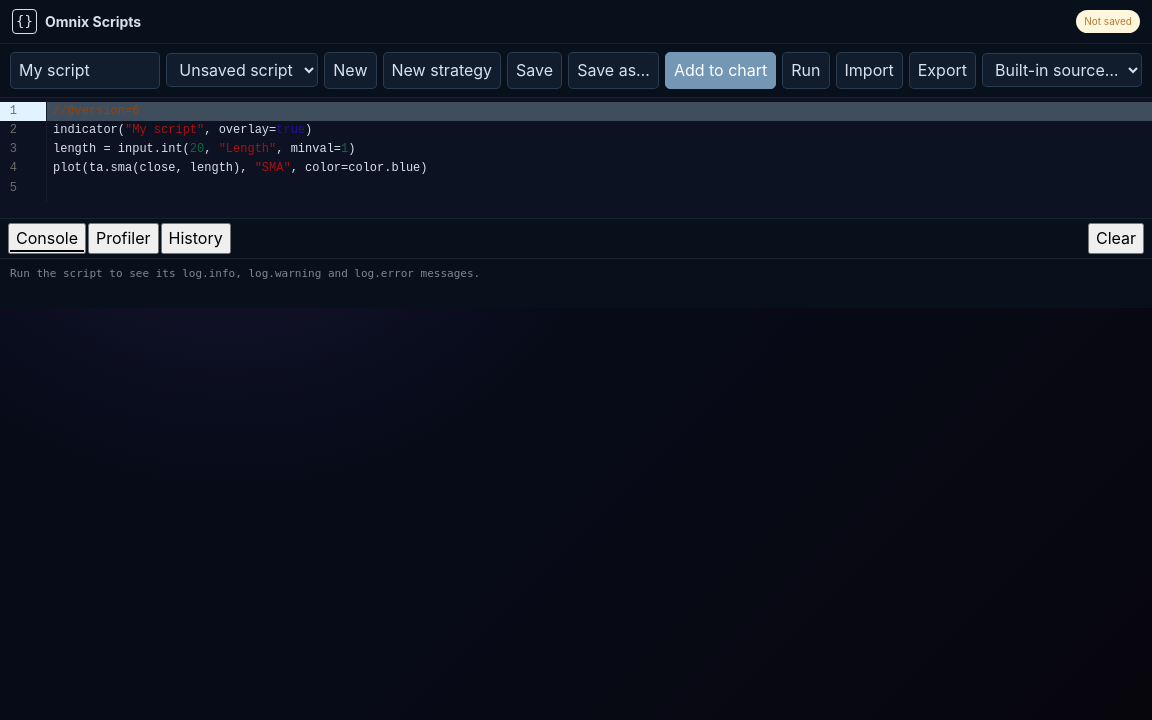
Test: TradingPinePanel (Omnix Scripts editor) › saves a new script and adds it to the chart as a script indicator
The width and height of the screenshot is (1152, 720).
Click the button "Add to chart" at coordinates (721, 70), box x1=665 y1=52 x2=776 y2=89
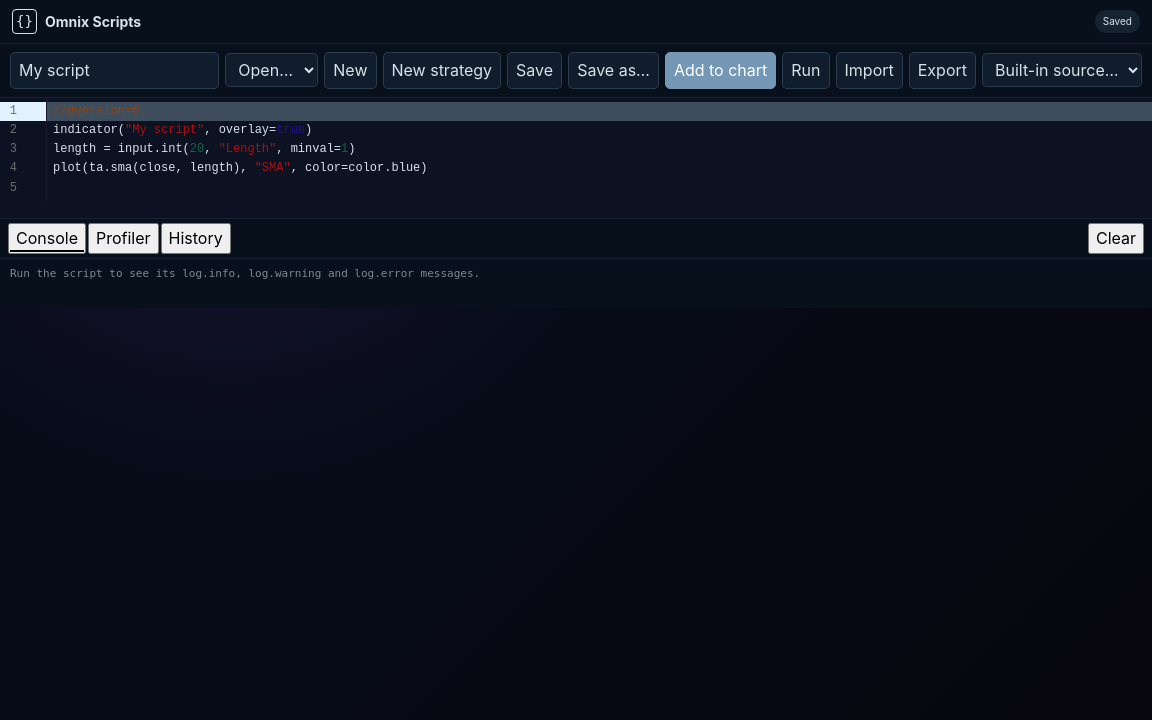
Check: the message reads "Saved", box x1=1103 y1=15 x2=1132 y2=27
